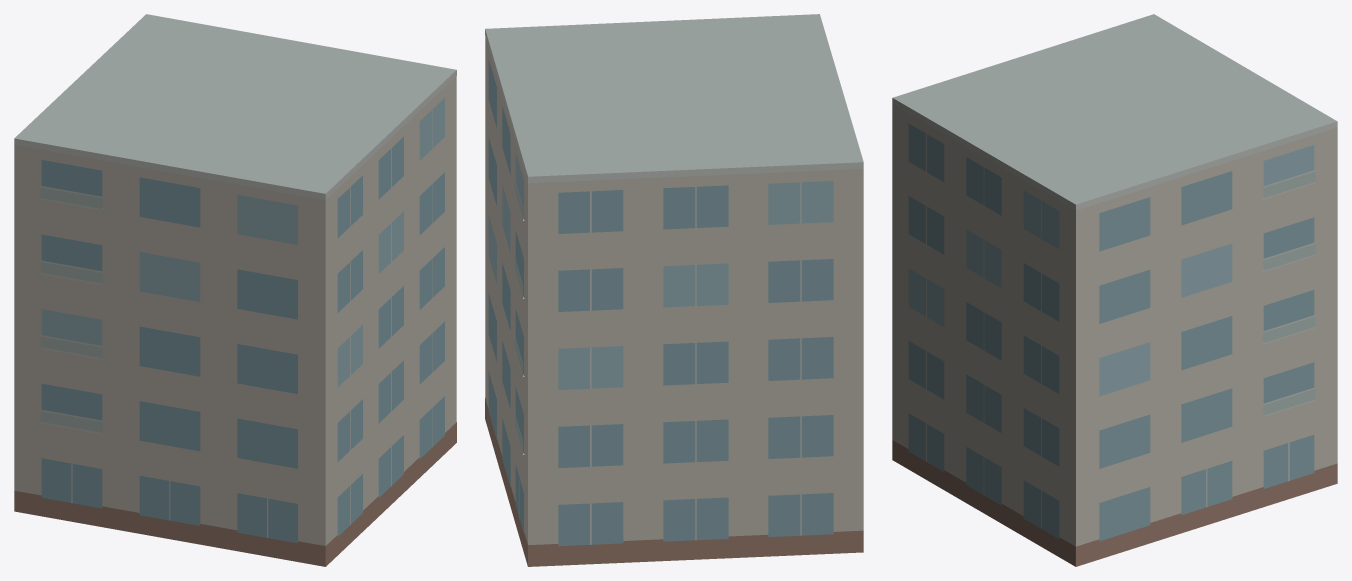
File: survey-upis-32591227.glb
The picture shows the model from 3 angles, left to right: view 1: azimuth 30°, elevation 25°; view 2: azimuth 150°, elevation 25°; view 3: azimuth 270°, elevation 25°; orthographic projection. The views are drawn at different scales.
Visible parts, largest first — view 1: survey-upis-32591227.tmp; view 2: survey-upis-32591227.tmp; view 3: survey-upis-32591227.tmp.
Part boxes in pixels (<box>): survey-upis-32591227.tmp: <box>14,14,456,566</box>; survey-upis-32591227.tmp: <box>485,14,863,566</box>; survey-upis-32591227.tmp: <box>892,14,1337,566</box>.
Bounding box in the file's own units: 16.6 × 14.7 × 16.38.
